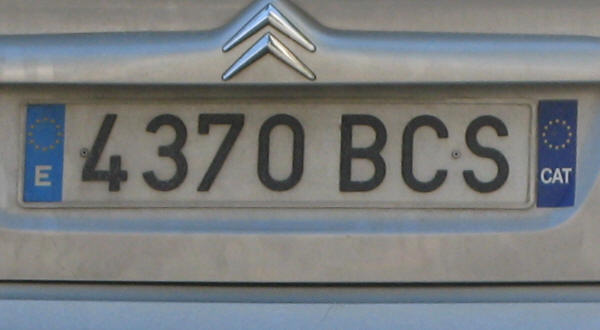license_plate: (18, 98, 536, 209)
